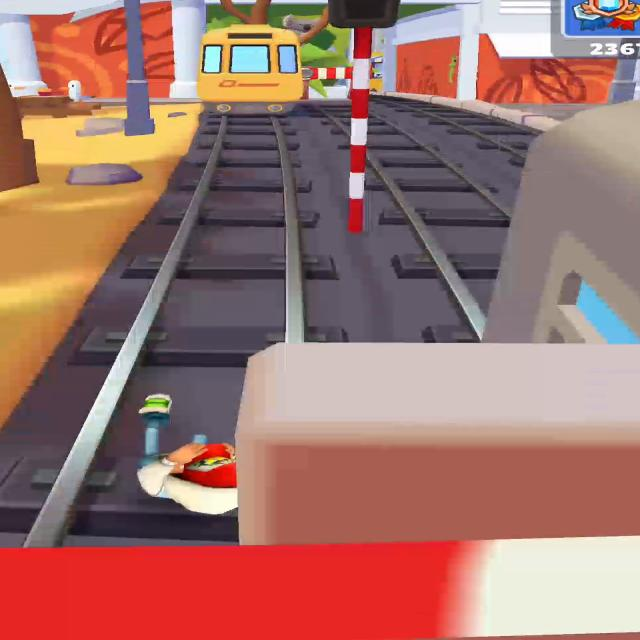block pillar: (269, 6, 351, 98)
train: (197, 24, 313, 114)
